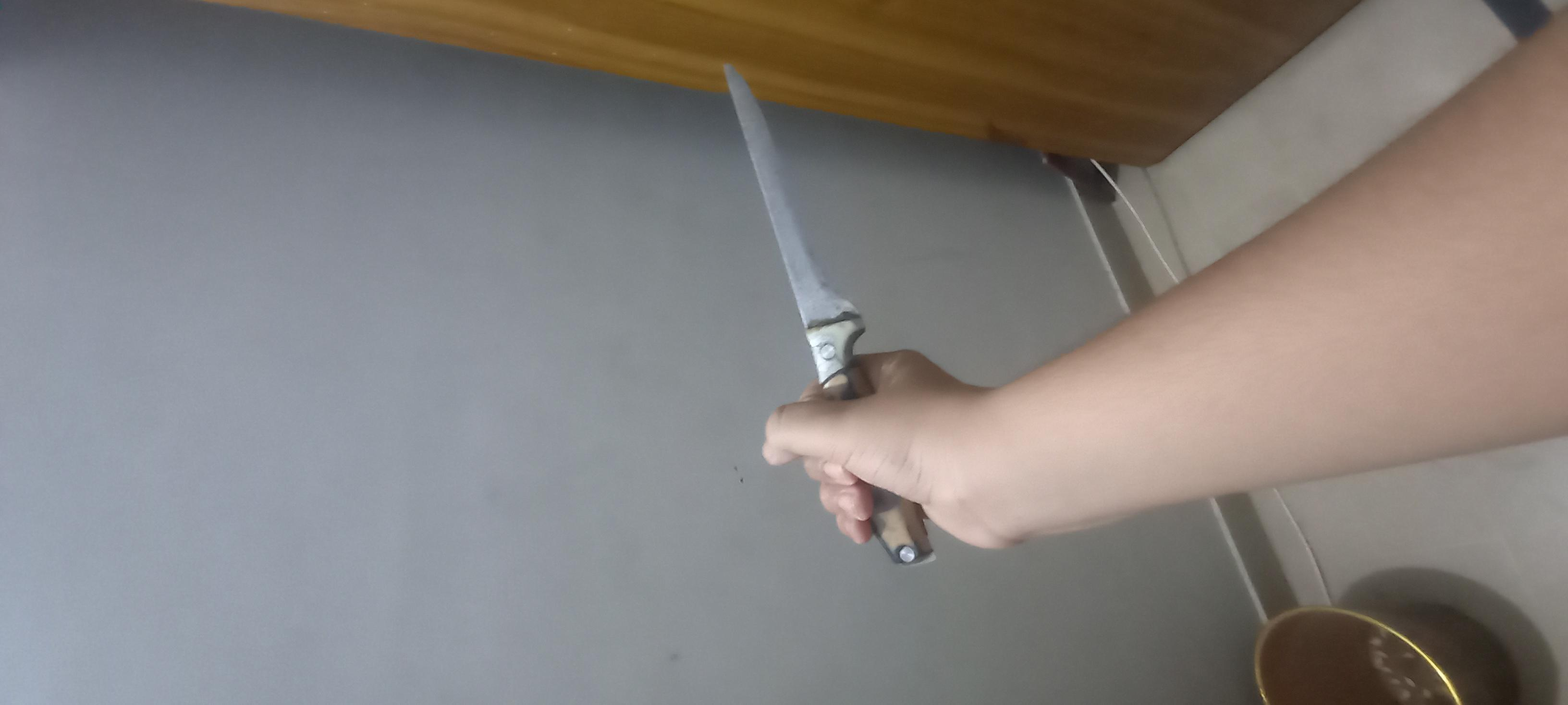knives: (269, 319, 1444, 417)
